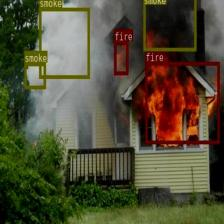fire: (145, 61, 219, 143), (113, 41, 128, 74)
smoke: (38, 7, 90, 78), (143, 0, 196, 50), (24, 62, 45, 88)
